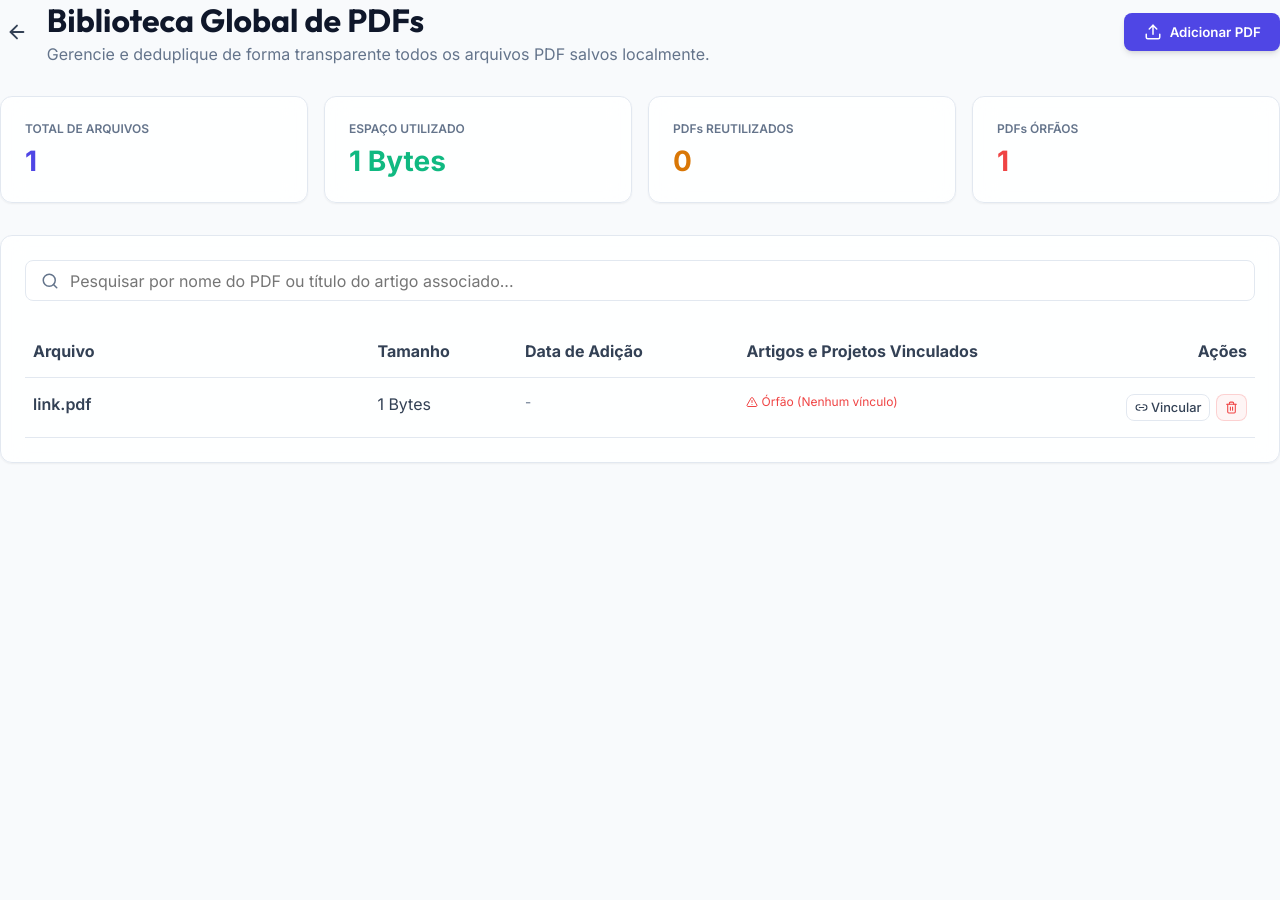
Test case: PdfLibraryPage › handles link modal with no eligible articles
Click the button titled "Vincular a outro Artigo": coordinates (1168, 408) [1126,394,1210,421]
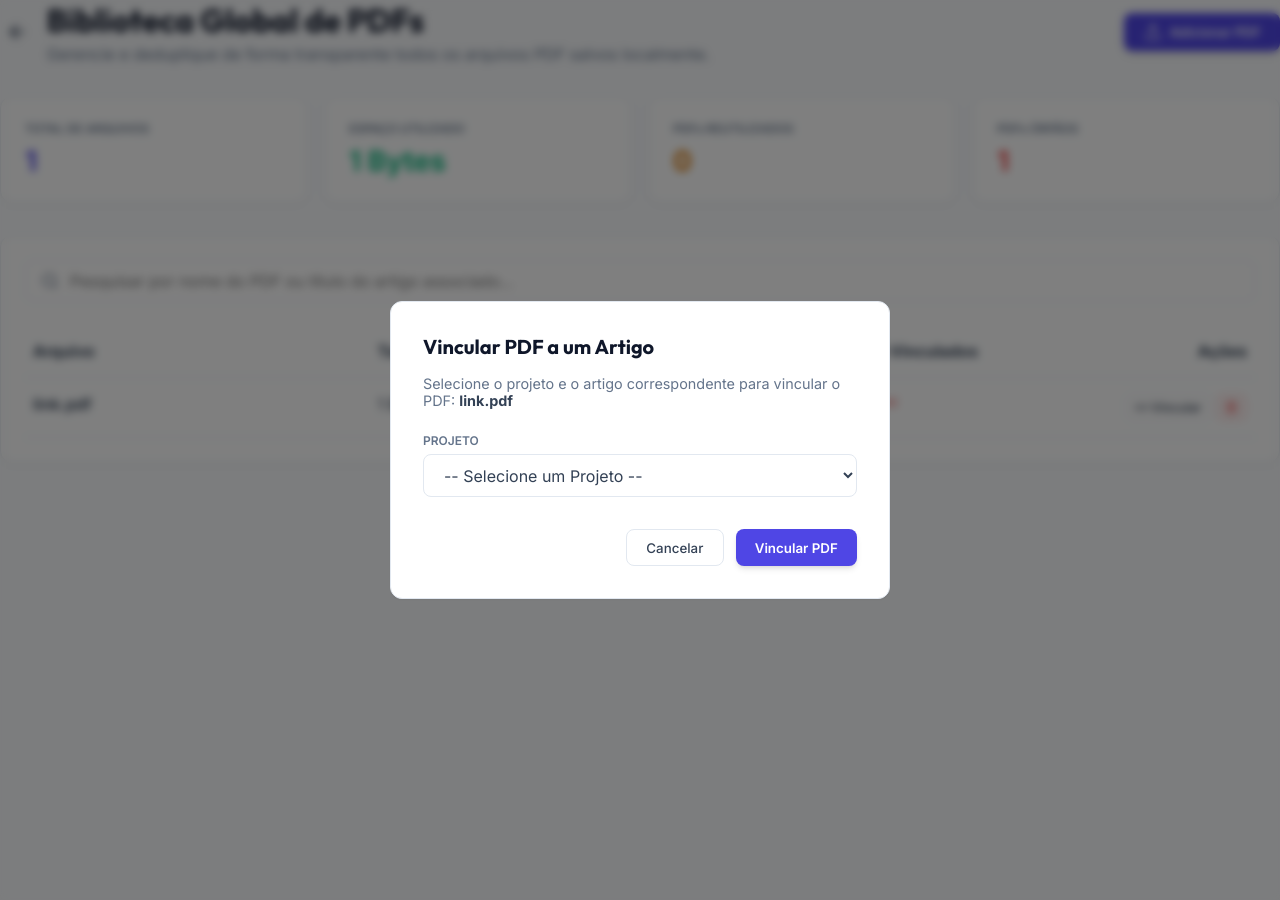
Check: the heading "Vincular PDF a um Artigo" is shown, box [423,334,654,359]
Select "Project 100" in the dropdown: coordinates (640, 476) [423,454,857,497]
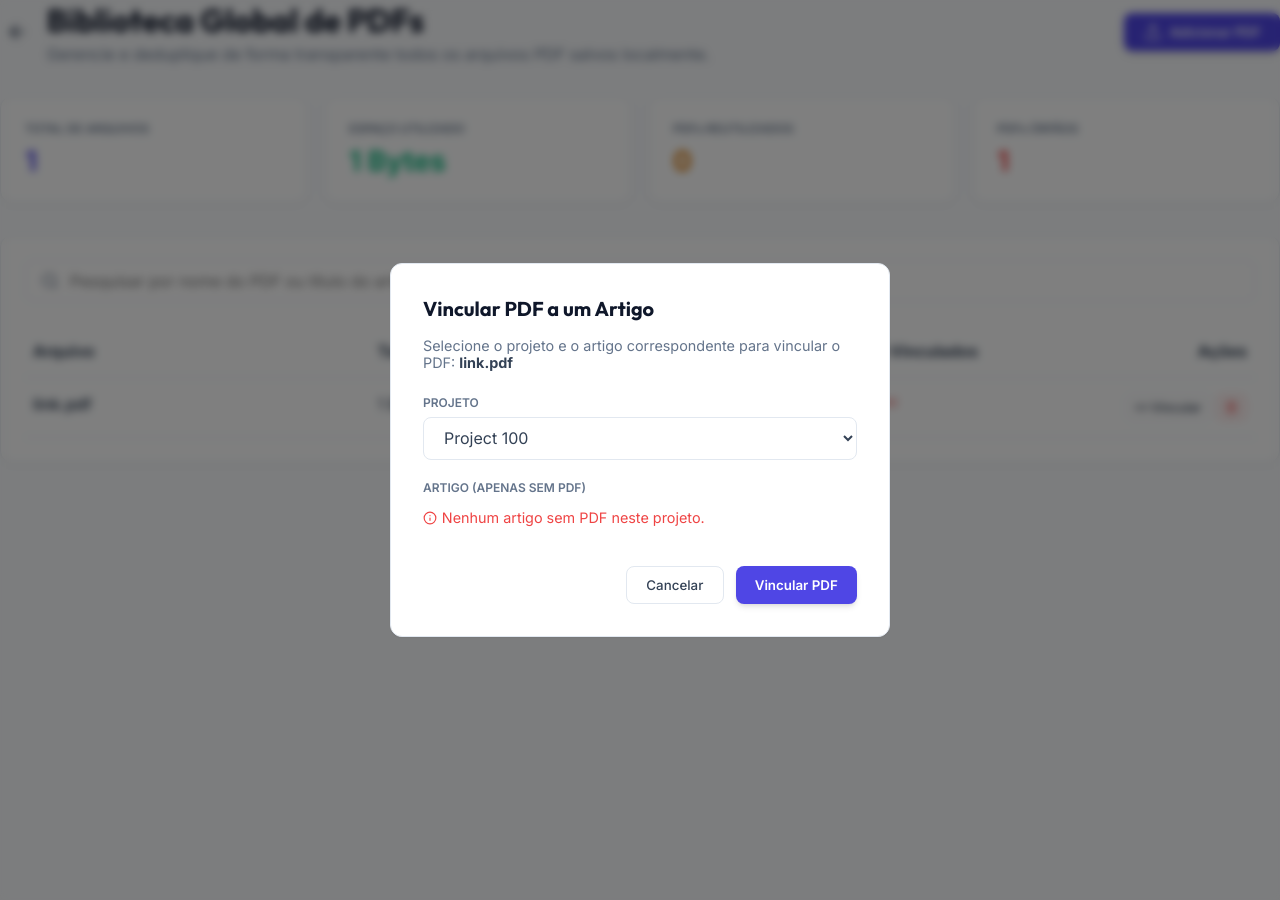
Check: the text "Nenhum artigo sem PDF neste projeto." is shown, box [423,509,705,526]
